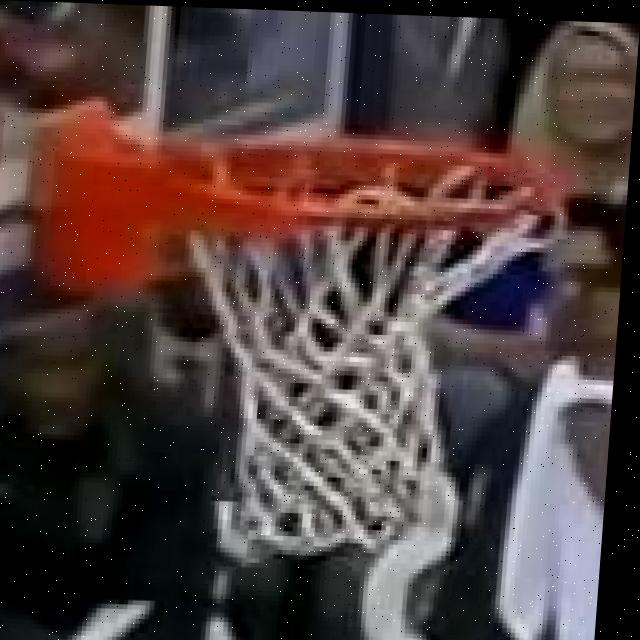hoop: (127, 125, 561, 583)
